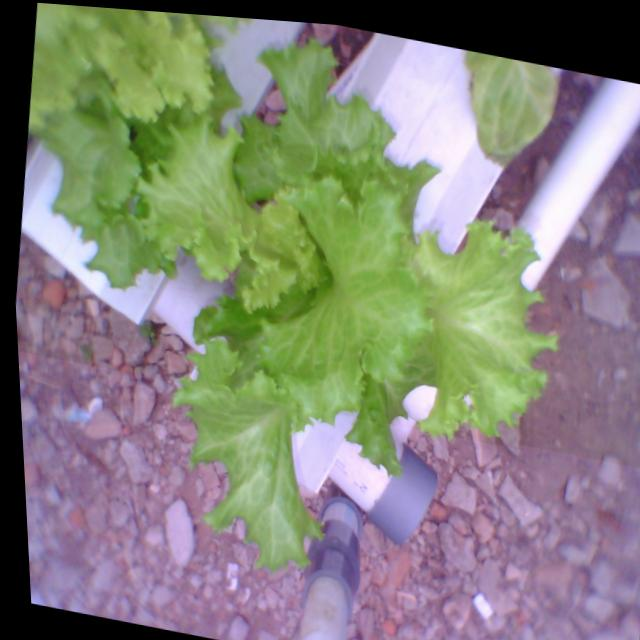FN: (126, 12, 607, 640), (3, 0, 277, 319)
